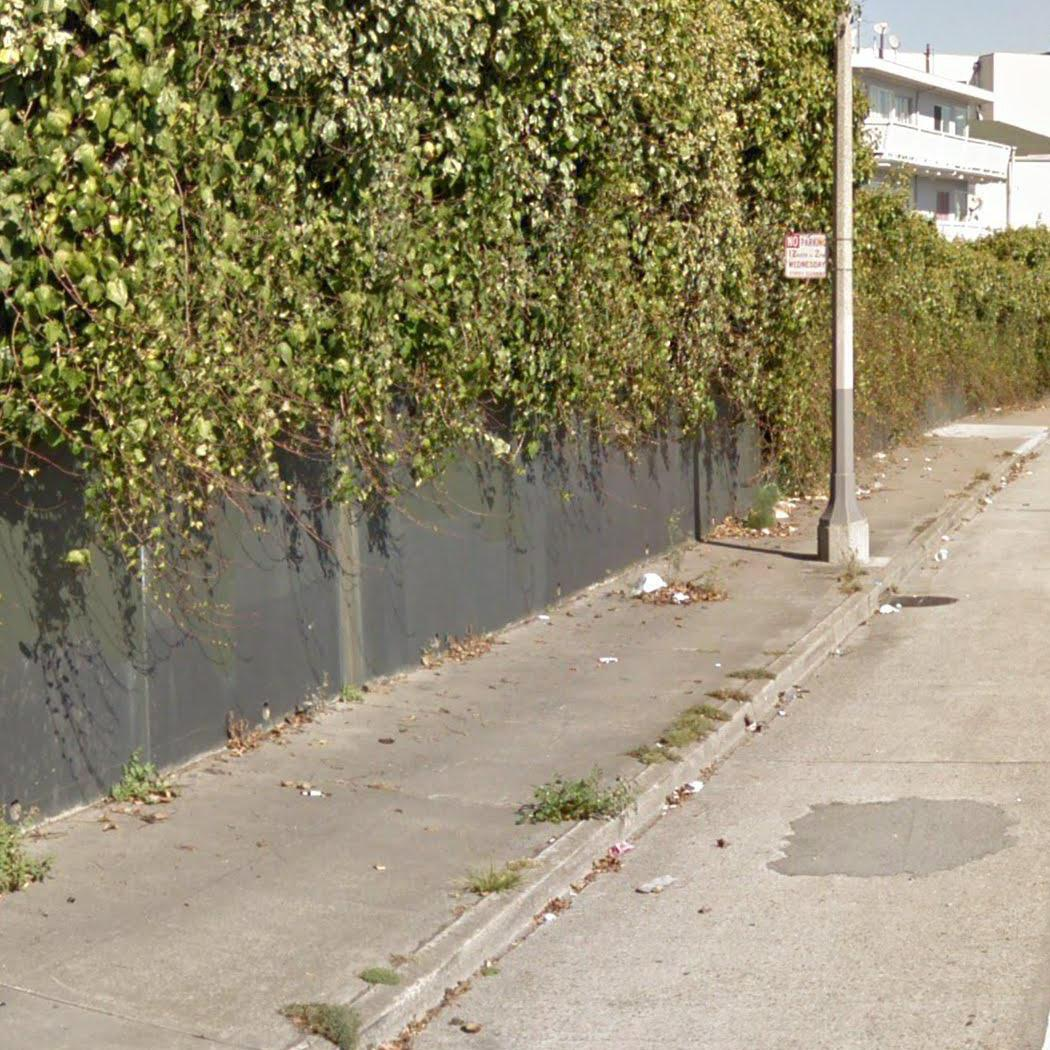No Parking: (781, 231, 830, 282)
